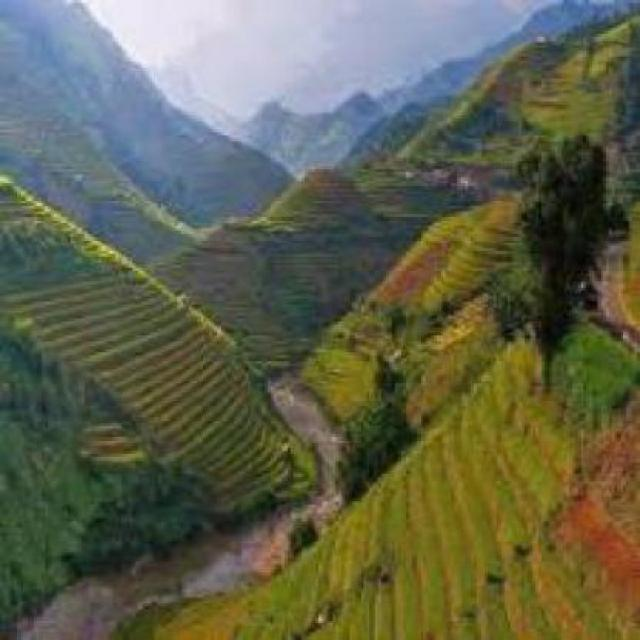stair: (68, 278, 302, 488)
